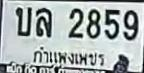2: (68, 7, 83, 37)
5: (104, 8, 119, 39)
8: (86, 8, 100, 38)
9: (122, 8, 137, 39)
A26: (15, 6, 31, 36)
A36: (35, 7, 51, 36)
KPT: (31, 46, 106, 68)
